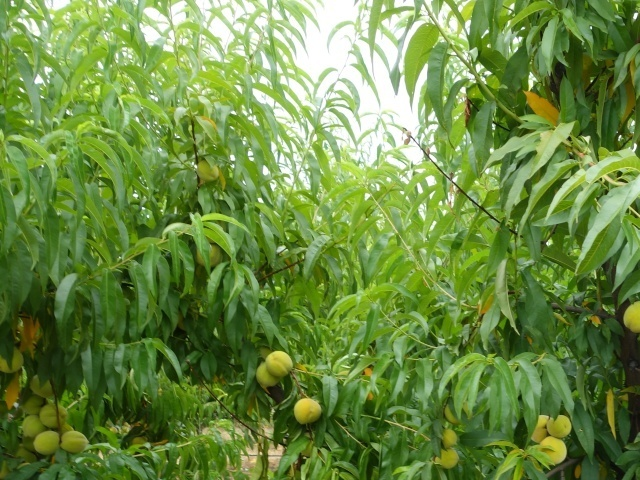peach: (30, 427, 65, 458), (263, 349, 296, 381), (291, 397, 324, 428), (537, 436, 568, 466), (525, 413, 554, 443), (37, 404, 69, 431), (59, 428, 88, 457), (620, 298, 640, 339), (546, 412, 574, 441), (252, 360, 280, 389), (194, 157, 222, 185), (194, 242, 222, 270), (433, 444, 461, 471), (26, 371, 54, 398), (18, 392, 47, 418), (18, 414, 47, 439), (436, 427, 462, 452), (1, 344, 23, 373)
